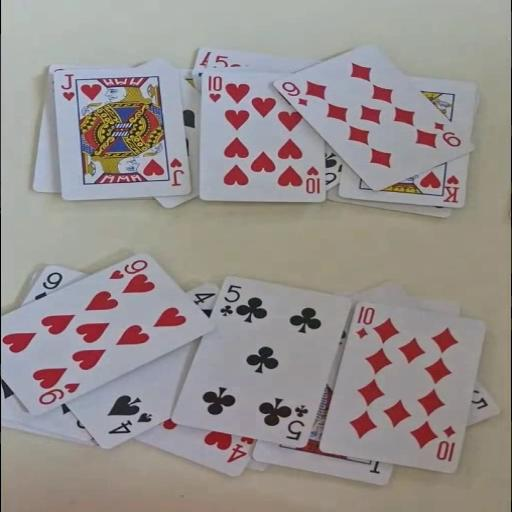10: (434, 424, 458, 462), (356, 304, 378, 340), (304, 164, 322, 195)
4: (105, 410, 154, 436), (223, 433, 255, 464)
5: (284, 403, 310, 441), (218, 282, 244, 316)
9: (35, 380, 82, 406), (106, 257, 149, 281), (430, 119, 464, 148), (32, 270, 64, 300), (278, 79, 310, 107)
J: (167, 156, 185, 187), (58, 73, 76, 102)
K: (440, 172, 462, 204)
